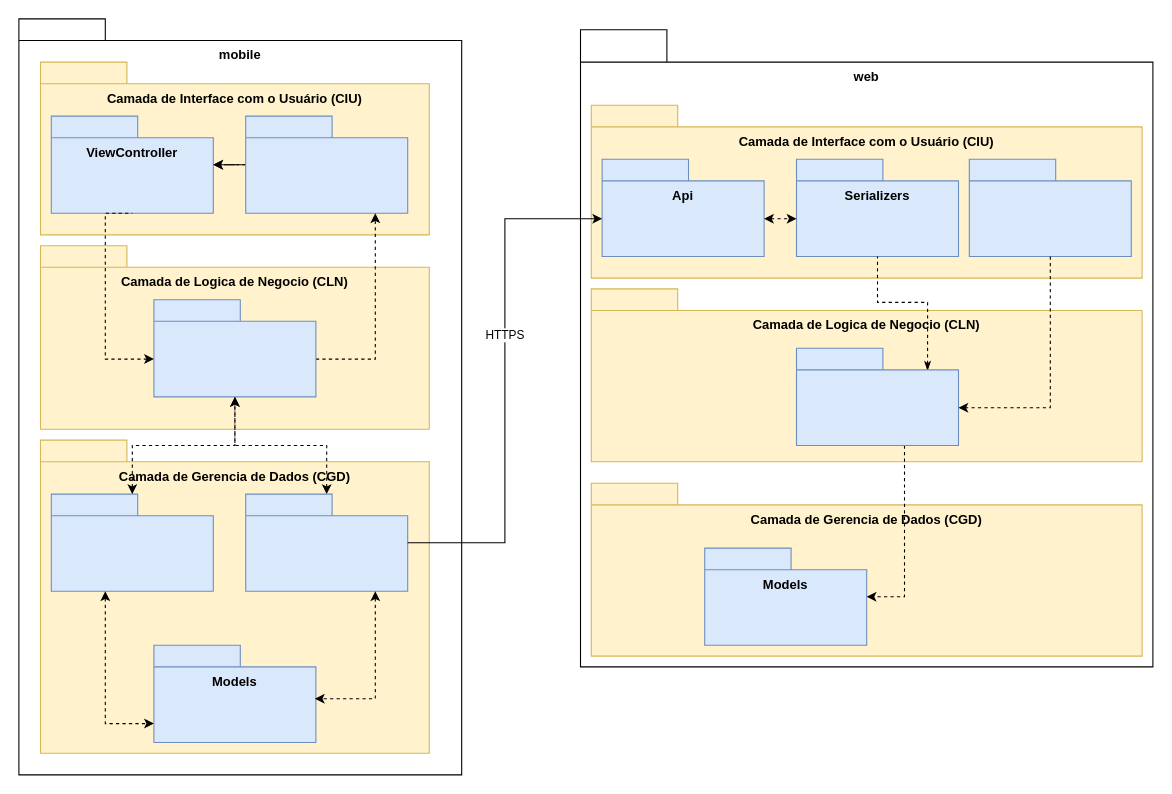
This 1172x794 diagram has some shape labels left out. Each missing label, with the centre of its shape:
"DatabaseWorker" belongs at [131,542].
"Interactor" belongs at [234,348].
"NetworkWorker" belongs at [326,542].
"Presenter" belongs at [326,164].
"Services" belongs at [877,396].
"Views" belongs at [1049,207].
